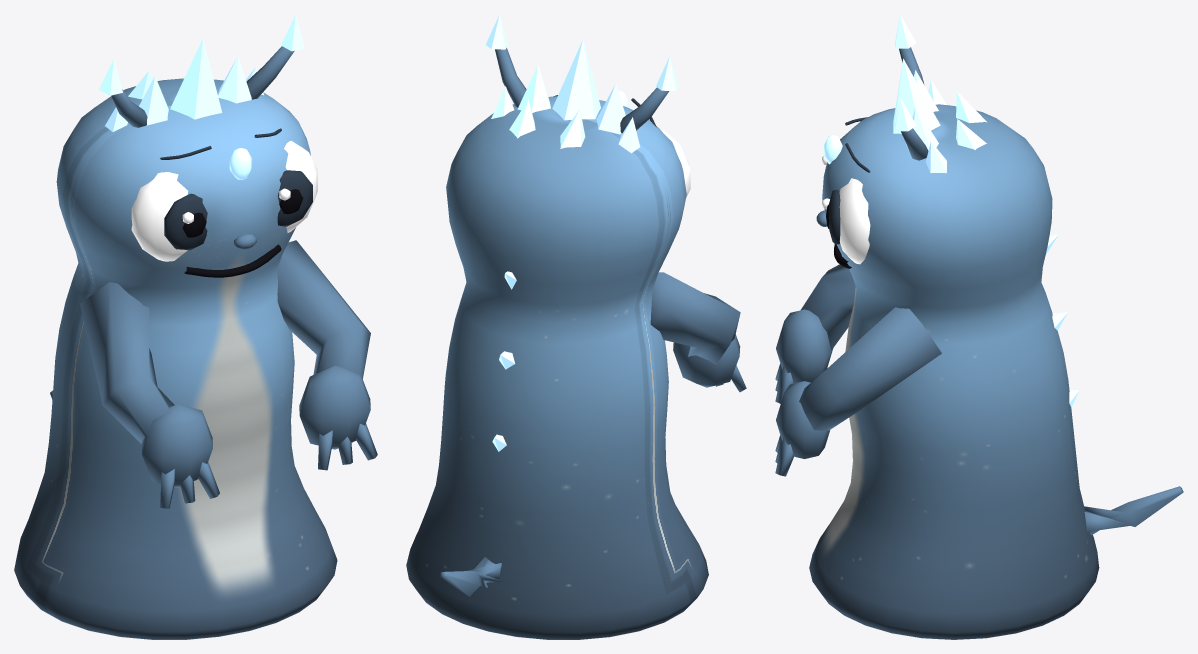
File: congelada_pixar.glb
The picture shows the model from 3 angles, left to right: view 1: azimuth 30°, elevation 25°; view 2: azimuth 150°, elevation 25°; view 3: azimuth 270°, elevation 25°; orthographic projection. The views are drawn at different scales.
Visible parts, largest first — view 1: congelada_cuerpo; view 2: congelada_cuerpo; view 3: congelada_cuerpo.
Part boxes in pixels (<box>): congelada_cuerpo: <box>14,14,377,639</box>; congelada_cuerpo: <box>406,14,746,639</box>; congelada_cuerpo: <box>775,14,1183,639</box>.
Size of the model in its own units: 0.3061 by 0.58 by 0.4102.
Materials: 5 (1 with a texture image).
